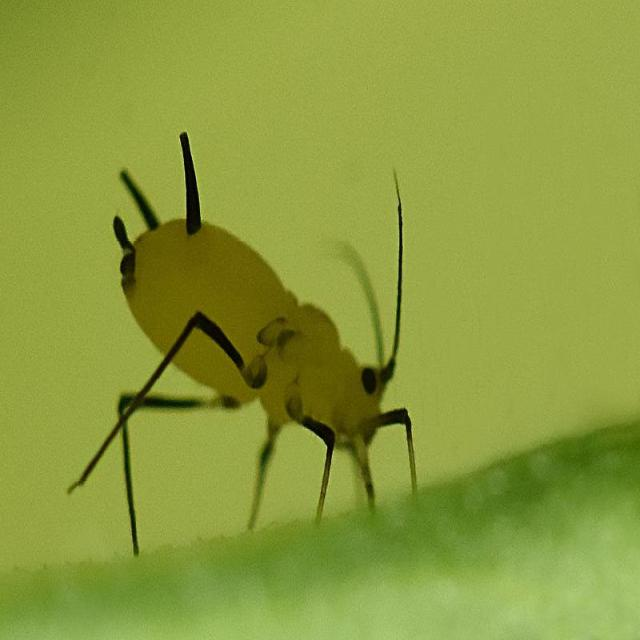Aphids: (78, 100, 442, 552)
